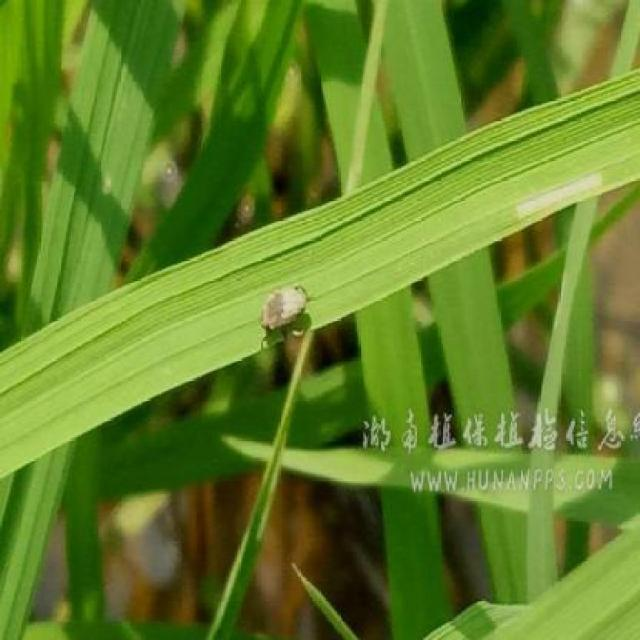rice-bug: (258, 277, 312, 345)
